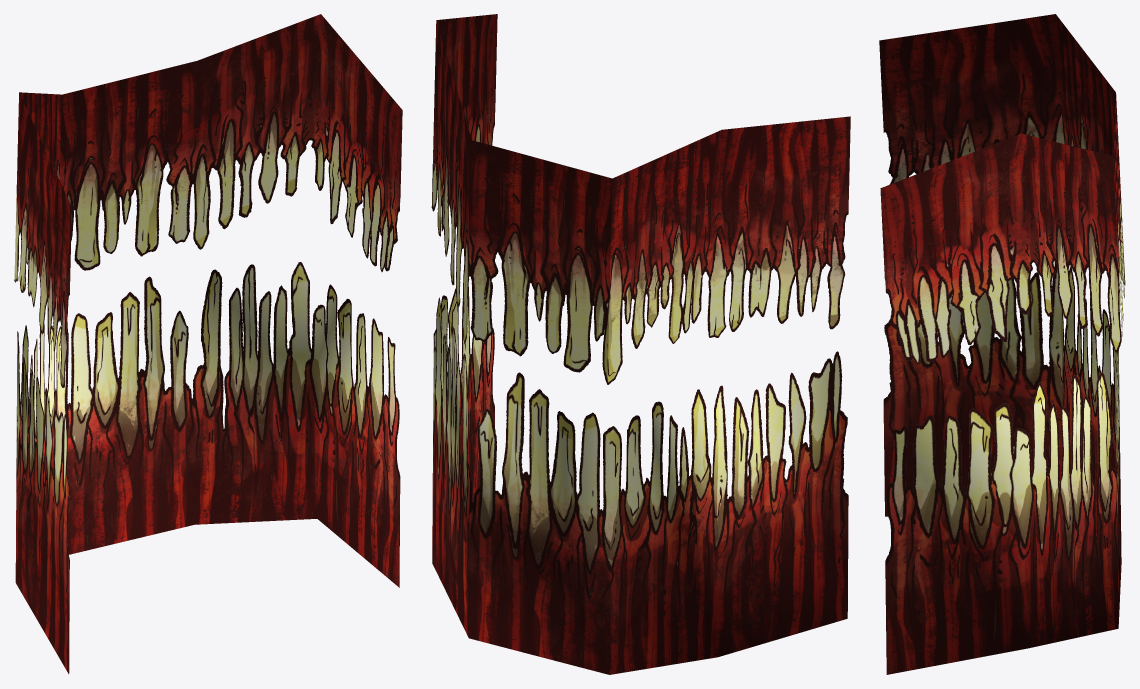
The model's file is big_kisser.fbx.
3 renders of one model, left to right at view 1: azimuth 30°, elevation 25°; view 2: azimuth 150°, elevation 25°; view 3: azimuth 270°, elevation 25°, orthographic. The views are drawn at different scales.
Visible parts, largest first — view 1: pPlane2, pPlane1; view 2: pPlane2, pPlane1; view 3: pPlane2, pPlane1.
Boxes of the visible parts, x1=… form: pPlane2: x1=15, y1=262, x2=400, y2=673; pPlane1: x1=14, y1=14, x2=402, y2=387; pPlane2: x1=432, y1=286, x2=848, y2=674; pPlane1: x1=431, y1=14, x2=850, y2=384; pPlane2: x1=883, y1=262, x2=1121, y2=674; pPlane1: x1=879, y1=14, x2=1125, y2=364.
Size of the model in its own units: 80.75 by 124 by 51.32.
Materials: 1 (1 with a texture image).
